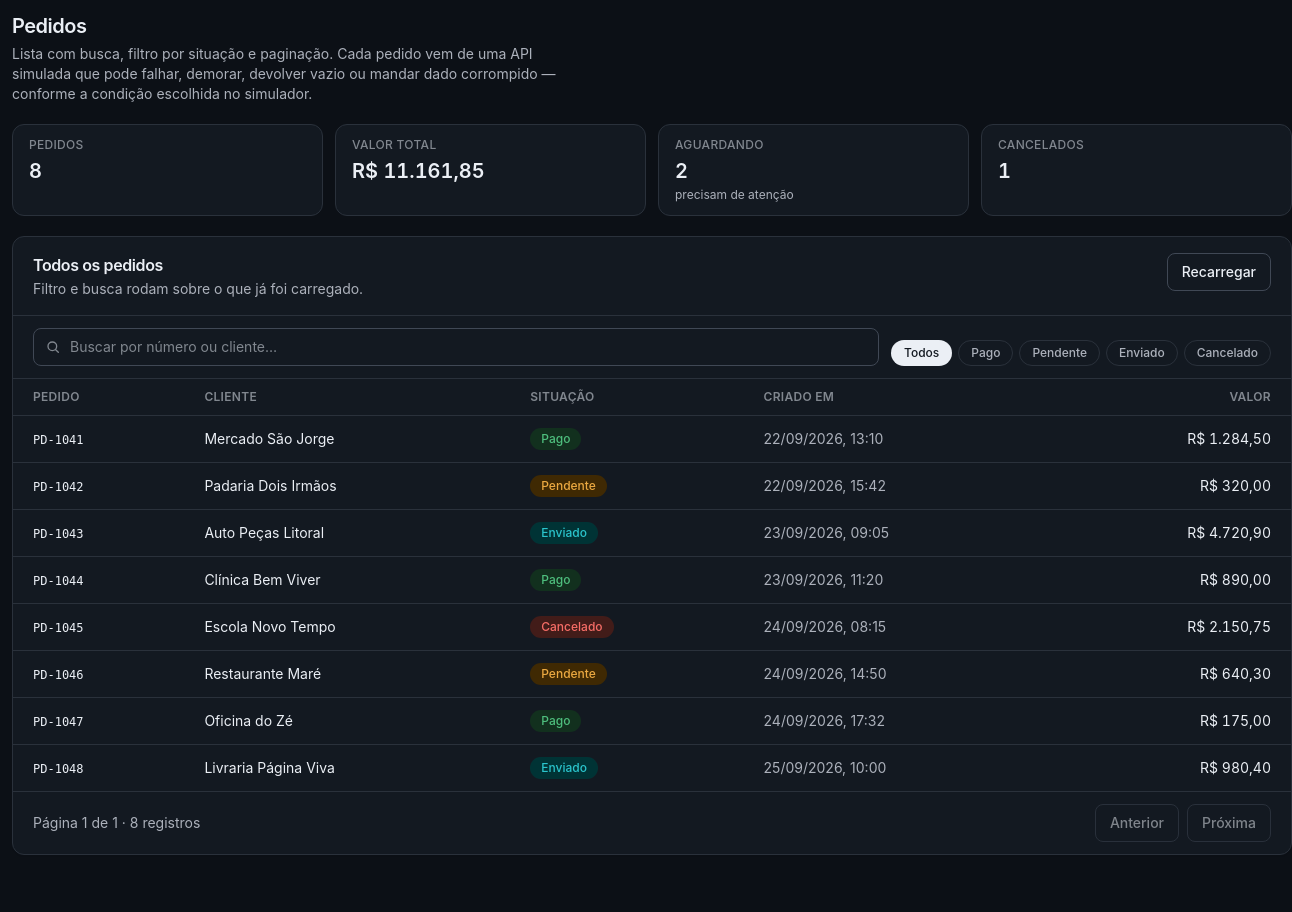
Scenario: tela de pedidos › filtra por situação sem nova consulta
Expected: the text "Mercado São Jorge" is shown, top-left (184, 416), bottom-right (510, 462)
Click the button "Cancelado" at point(1227, 353), box top-left (1184, 340), bottom-right (1271, 366)
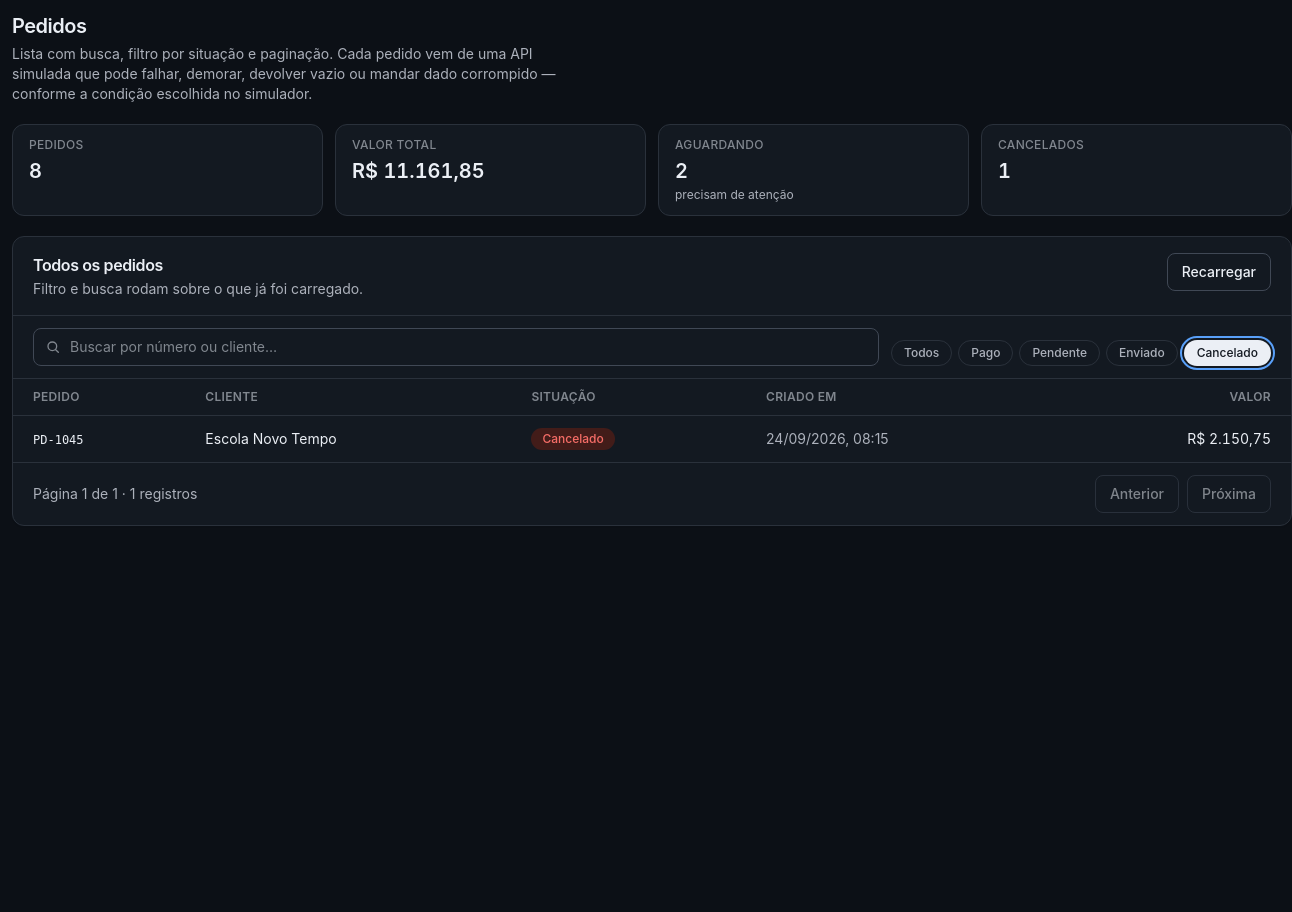
Expected: the text "Escola Novo Tempo" is shown, top-left (185, 416), bottom-right (511, 462)
Expected: the text "Mercado São Jorge" is gone
